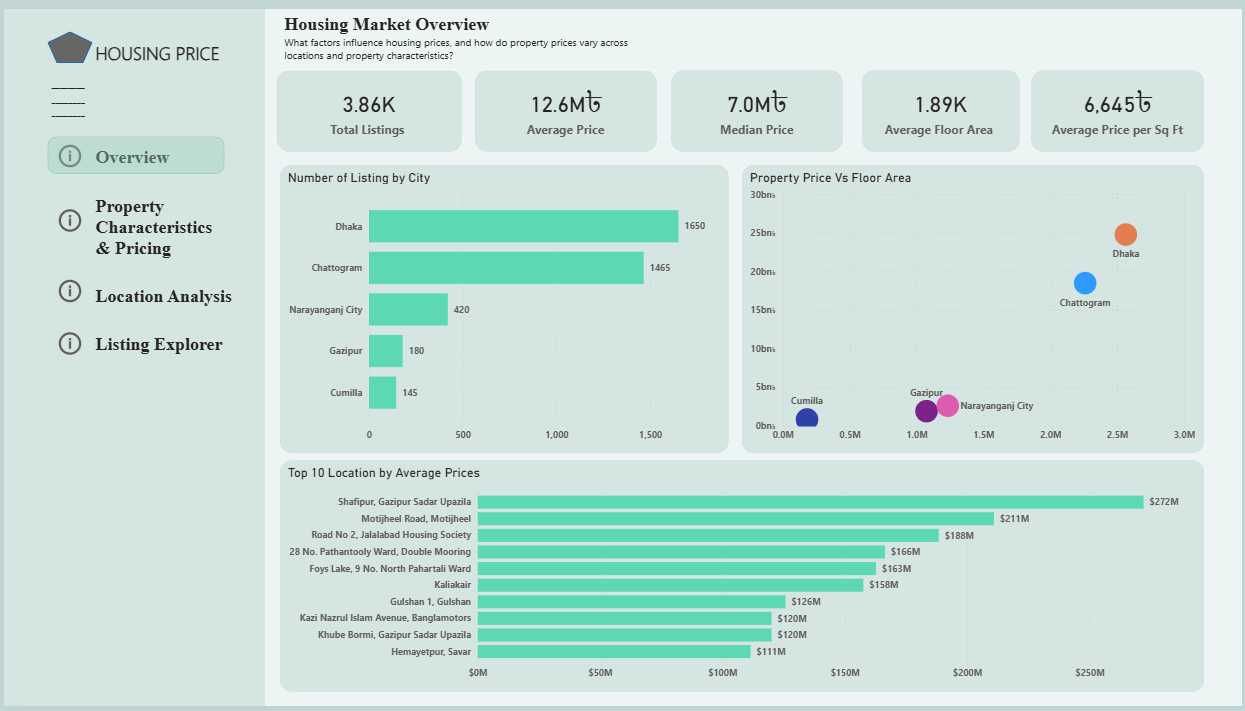

Layout of this report page (visuals, bound fields, positions):
{"tool":"powerbi","page":{"name":"Housing Market Overview ","canvas":[1650,930],"ordinal":0},"visuals":[{"type":"clusteredBarChart","title":"Number of Listing by City","fields":{"Category":["house pricing.City"],"Y":["CountNonNull(house pricing.Price_in_taka)"]},"box":[368,208,598,384],"z":0},{"type":"clusteredBarChart","title":"Top 10 Location by Average Prices ","fields":{"Category":["house pricing.Location"],"Y":["Avg(house pricing.Price_in_taka)"]},"box":[368,602,1232,308],"z":1000},{"type":"scatterChart","title":"Property Price Vs Floor Area","fields":{"X":["Sum(house pricing.Floor_area)"],"Y":["Sum(house pricing.Price_in_taka)"],"Series":["house pricing.City"]},"box":[984,208,616,384],"z":2000},{"type":"card","fields":{"Values":["CountNonNull(house pricing.Description )"]},"box":[364,82,246,108],"z":3000},{"type":"card","fields":{"Values":["Avg(house pricing.Price_in_taka)"]},"box":[628,82,242,108],"z":4000},{"type":"card","fields":{"Values":["Median(house pricing.Price_in_taka)"]},"box":[890,82,228,108],"z":5000},{"type":"card","fields":{"Values":["Avg(house pricing.Floor_area)"]},"box":[1144,82,210,108],"z":6000},{"type":"card","fields":{"Values":["house pricing.Price per Sq Ft"]},"box":[1370,82,230,108],"z":7000},{"type":"textbox","box":[0,0,348,930],"z":8000},{"type":"shape","box":[58,30,60,42],"z":9000},{"type":"actionButton","box":[68,356,50,40],"z":10000},{"type":"actionButton","box":[68,176,50,40],"z":11000},{"type":"shape","box":[58,170,236,50],"z":12000},{"type":"actionButton","box":[68,262,50,40],"z":13000},{"type":"actionButton","box":[68,426,50,40],"z":14000},{"type":"textbox","box":[368,0,502,82],"z":15000}]}

Visuals, with their boxes in screenshot pixels (x1, y1, x2, y2), scaled from the page's 1650x930 canvas onto the 1245x711 screenshot:
"Number of Listing by City" clusteredBarChart: crop(278, 159, 729, 453)
"Top 10 Location by Average Prices " clusteredBarChart: crop(278, 460, 1207, 696)
"Property Price Vs Floor Area" scatterChart: crop(742, 159, 1207, 453)
card - CountNonNull(house pricing.Description ): crop(275, 63, 460, 145)
card - Avg(house pricing.Price_in_taka): crop(474, 63, 656, 145)
card - Median(house pricing.Price_in_taka): crop(672, 63, 844, 145)
card - Avg(house pricing.Floor_area): crop(863, 63, 1022, 145)
card - house pricing.Price per Sq Ft: crop(1034, 63, 1207, 145)
textbox: crop(0, 0, 263, 710)
shape: crop(44, 23, 89, 55)
actionButton: crop(51, 272, 89, 303)
actionButton: crop(51, 135, 89, 165)
shape: crop(44, 130, 222, 168)
actionButton: crop(51, 200, 89, 231)
actionButton: crop(51, 326, 89, 356)
textbox: crop(278, 0, 656, 63)
